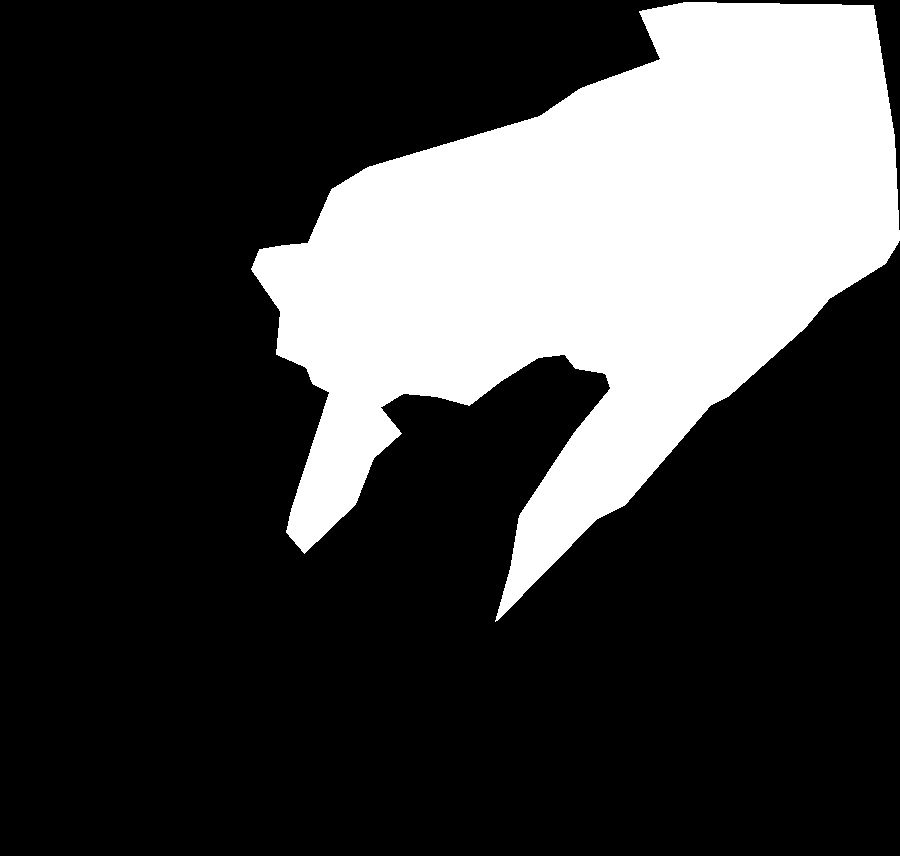Fire: (261, 164, 671, 618)
